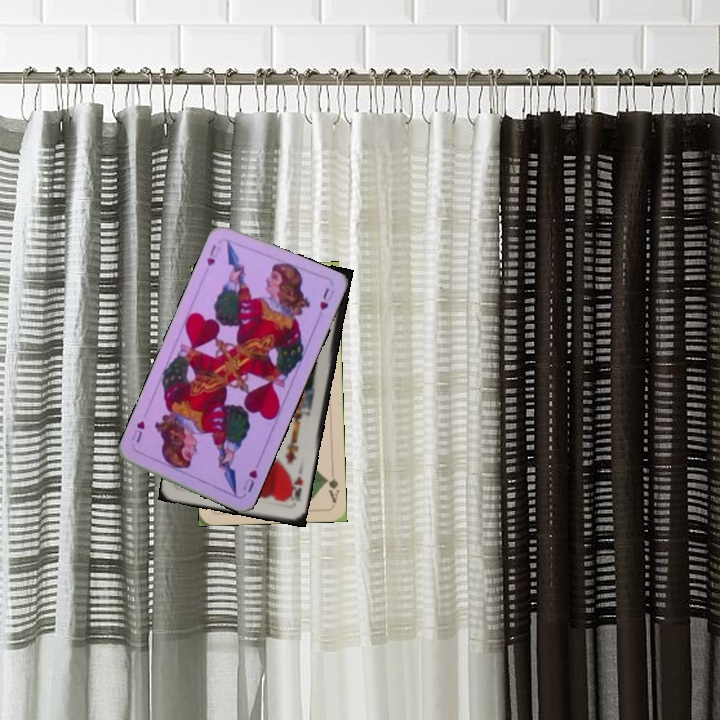GA: (321, 465, 341, 506)
HK: (284, 472, 306, 504)
HU: (239, 465, 260, 495), (203, 240, 224, 268)
